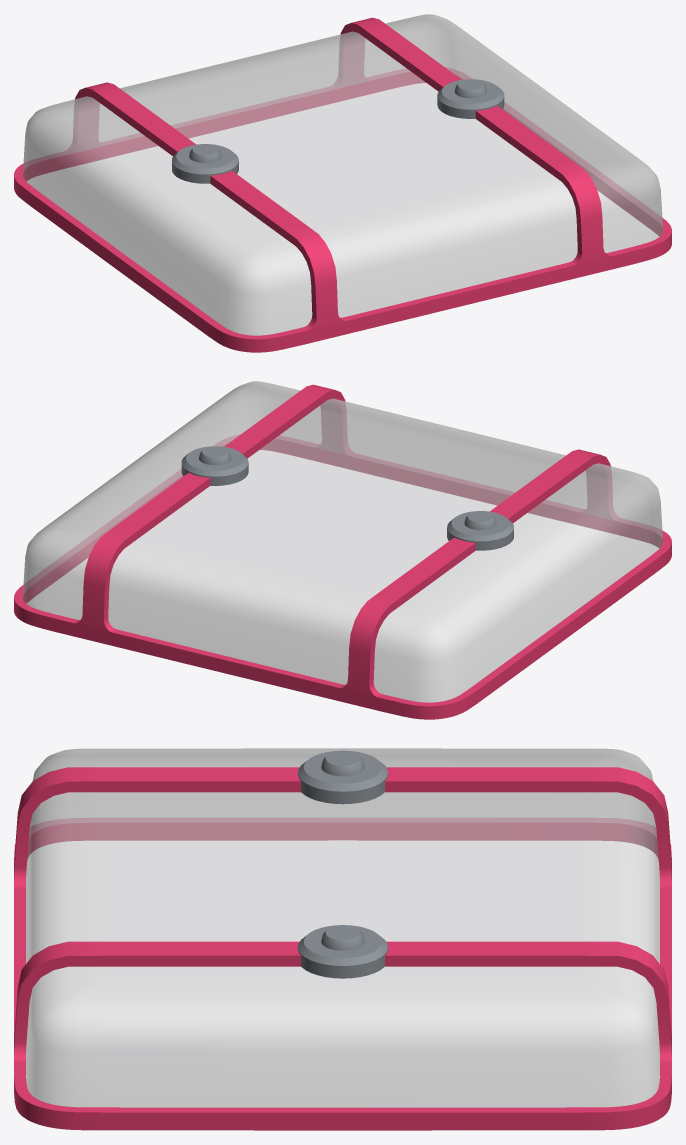
The model's file is hop_Vuong_T2.fbx.
3 views of the same model, one above another, from view 1: azimuth 30°, elevation 25°; view 2: azimuth 150°, elevation 25°; view 3: azimuth 270°, elevation 25° (orthographic). The views are drawn at different scales.
Visible parts, largest first — view 1: Cube.009, Cube.016, Cylinder.169, Cylinder.174; view 2: Cube.009, Cube.016, Cylinder.169, Cylinder.174; view 3: Cube.009, Cube.016, Cylinder.169, Cylinder.174.
Boxes of the visible parts, x1,y1,x2,y2 form: Cube.009: (23,14,662,335); Cube.016: (14,17,671,352); Cylinder.169: (437,79,504,118); Cylinder.174: (172,144,238,183); Cube.009: (23,381,662,702); Cube.016: (14,384,671,719); Cylinder.169: (181,446,248,485); Cylinder.174: (447,511,513,550); Cube.009: (26,748,659,1107); Cube.016: (14,767,671,1130); Cylinder.169: (297,925,388,978); Cylinder.174: (297,750,388,804).
Size of the model in its own units: 353 by 75 by 333.
